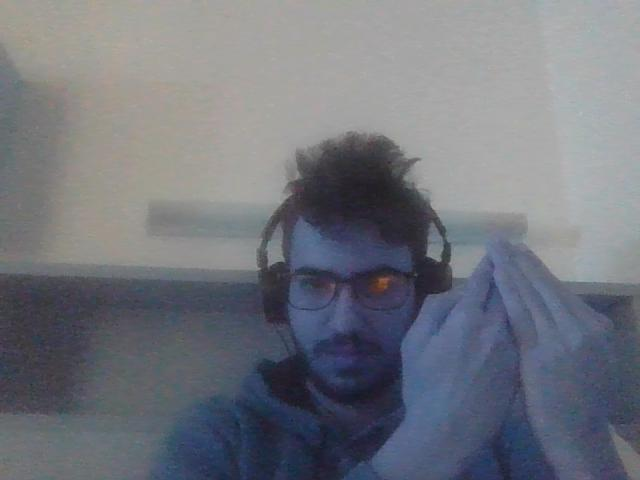thank you: (396, 233, 625, 473)
